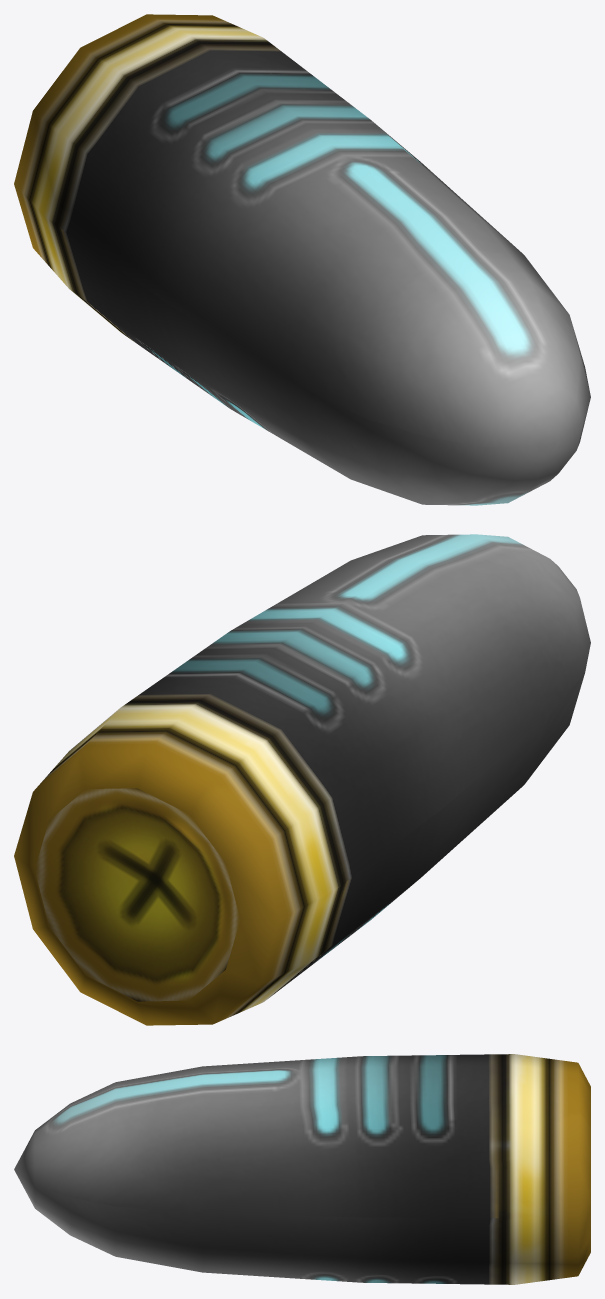
Rendered from bullet0.fbx.
The picture shows the model from 3 angles, top to bottom: view 1: azimuth 30°, elevation 25°; view 2: azimuth 150°, elevation 25°; view 3: azimuth 270°, elevation 25°; orthographic projection. The views are drawn at different scales.
Visible parts, largest first — view 1: bullet0; view 2: bullet0; view 3: bullet0.
Boxes of the visible parts, bbox=[...] form: bullet0: bbox=[14, 14, 590, 505]; bullet0: bbox=[14, 534, 590, 1025]; bullet0: bbox=[14, 1054, 590, 1284].
Size of the model in its own units: 24.5 by 24.25 by 61.01.
